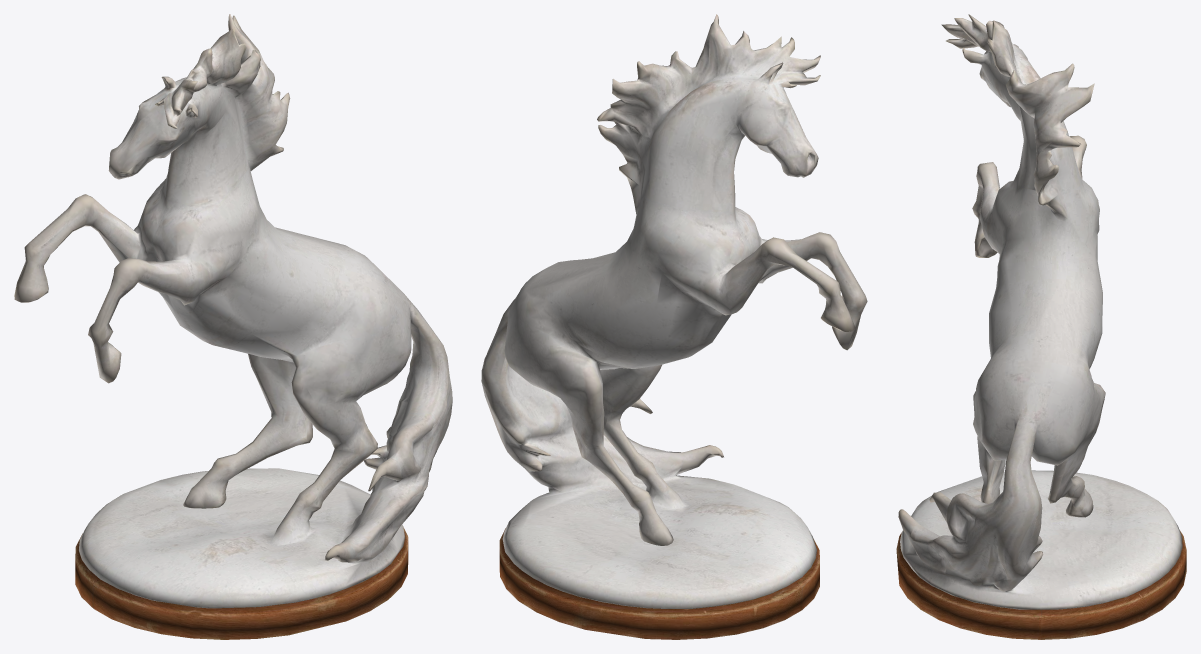
File: horse_statue_01.glb
3 renders of one model, left to right at view 1: azimuth 30°, elevation 25°; view 2: azimuth 150°, elevation 25°; view 3: azimuth 270°, elevation 25°, orthographic. The views are drawn at different scales.
Parts seen in each view (by area): view 1: horse_statue_01; view 2: horse_statue_01; view 3: horse_statue_01.
Boxes of the visible parts, box(x1,y1,x2,y2) form: horse_statue_01: box(14, 14, 452, 639); horse_statue_01: box(481, 14, 867, 639); horse_statue_01: box(896, 14, 1186, 639).
Bounding box in the file's own units: 0.1638 × 0.22 × 0.1078.
Materials: 1 (1 with a texture image).
